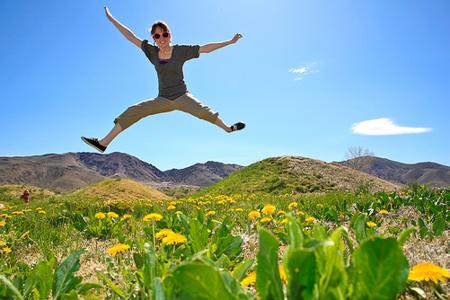person: (80, 4, 247, 154)
